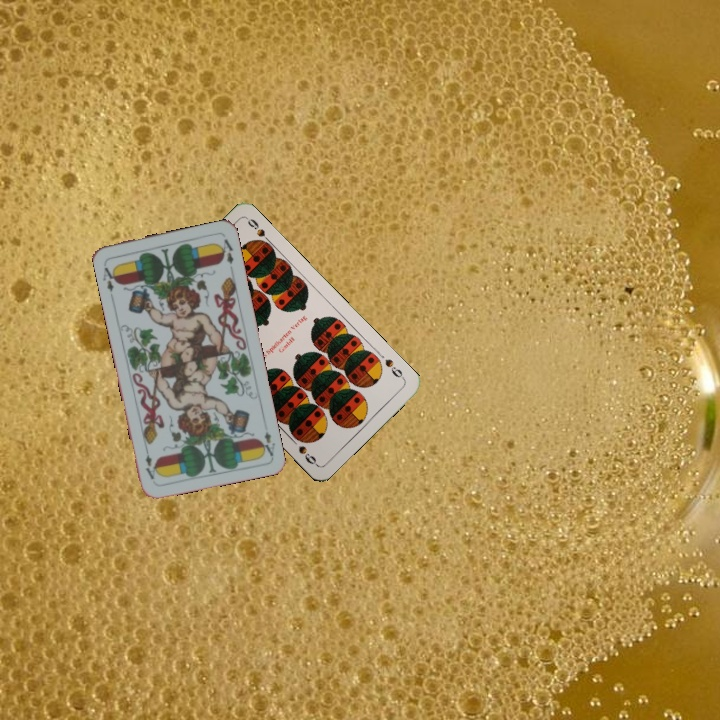EA: (257, 427, 278, 459), (99, 263, 120, 294)
S9: (381, 355, 407, 382)
